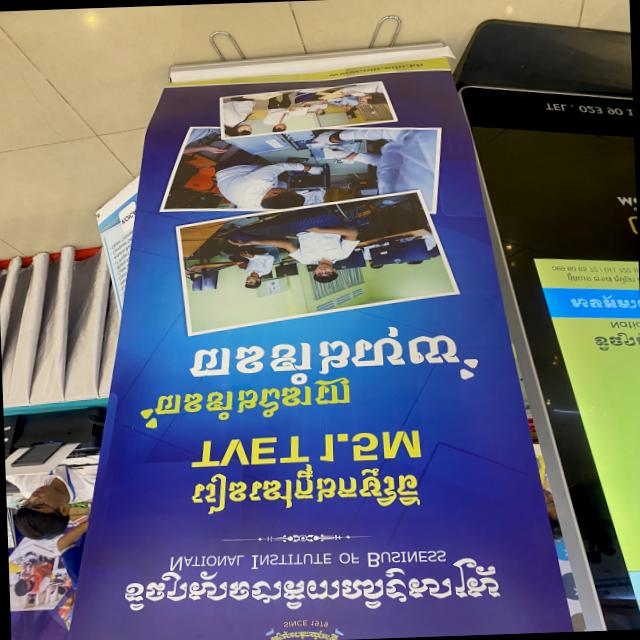359: (547, 264, 637, 274)
525: (313, 420, 425, 466)
625: (308, 619, 330, 629)
Yolov11kh: (117, 554, 515, 614), (187, 323, 469, 386), (183, 461, 425, 517), (153, 378, 358, 427), (565, 291, 637, 312), (591, 329, 637, 356), (264, 628, 342, 640), (565, 272, 636, 285)
